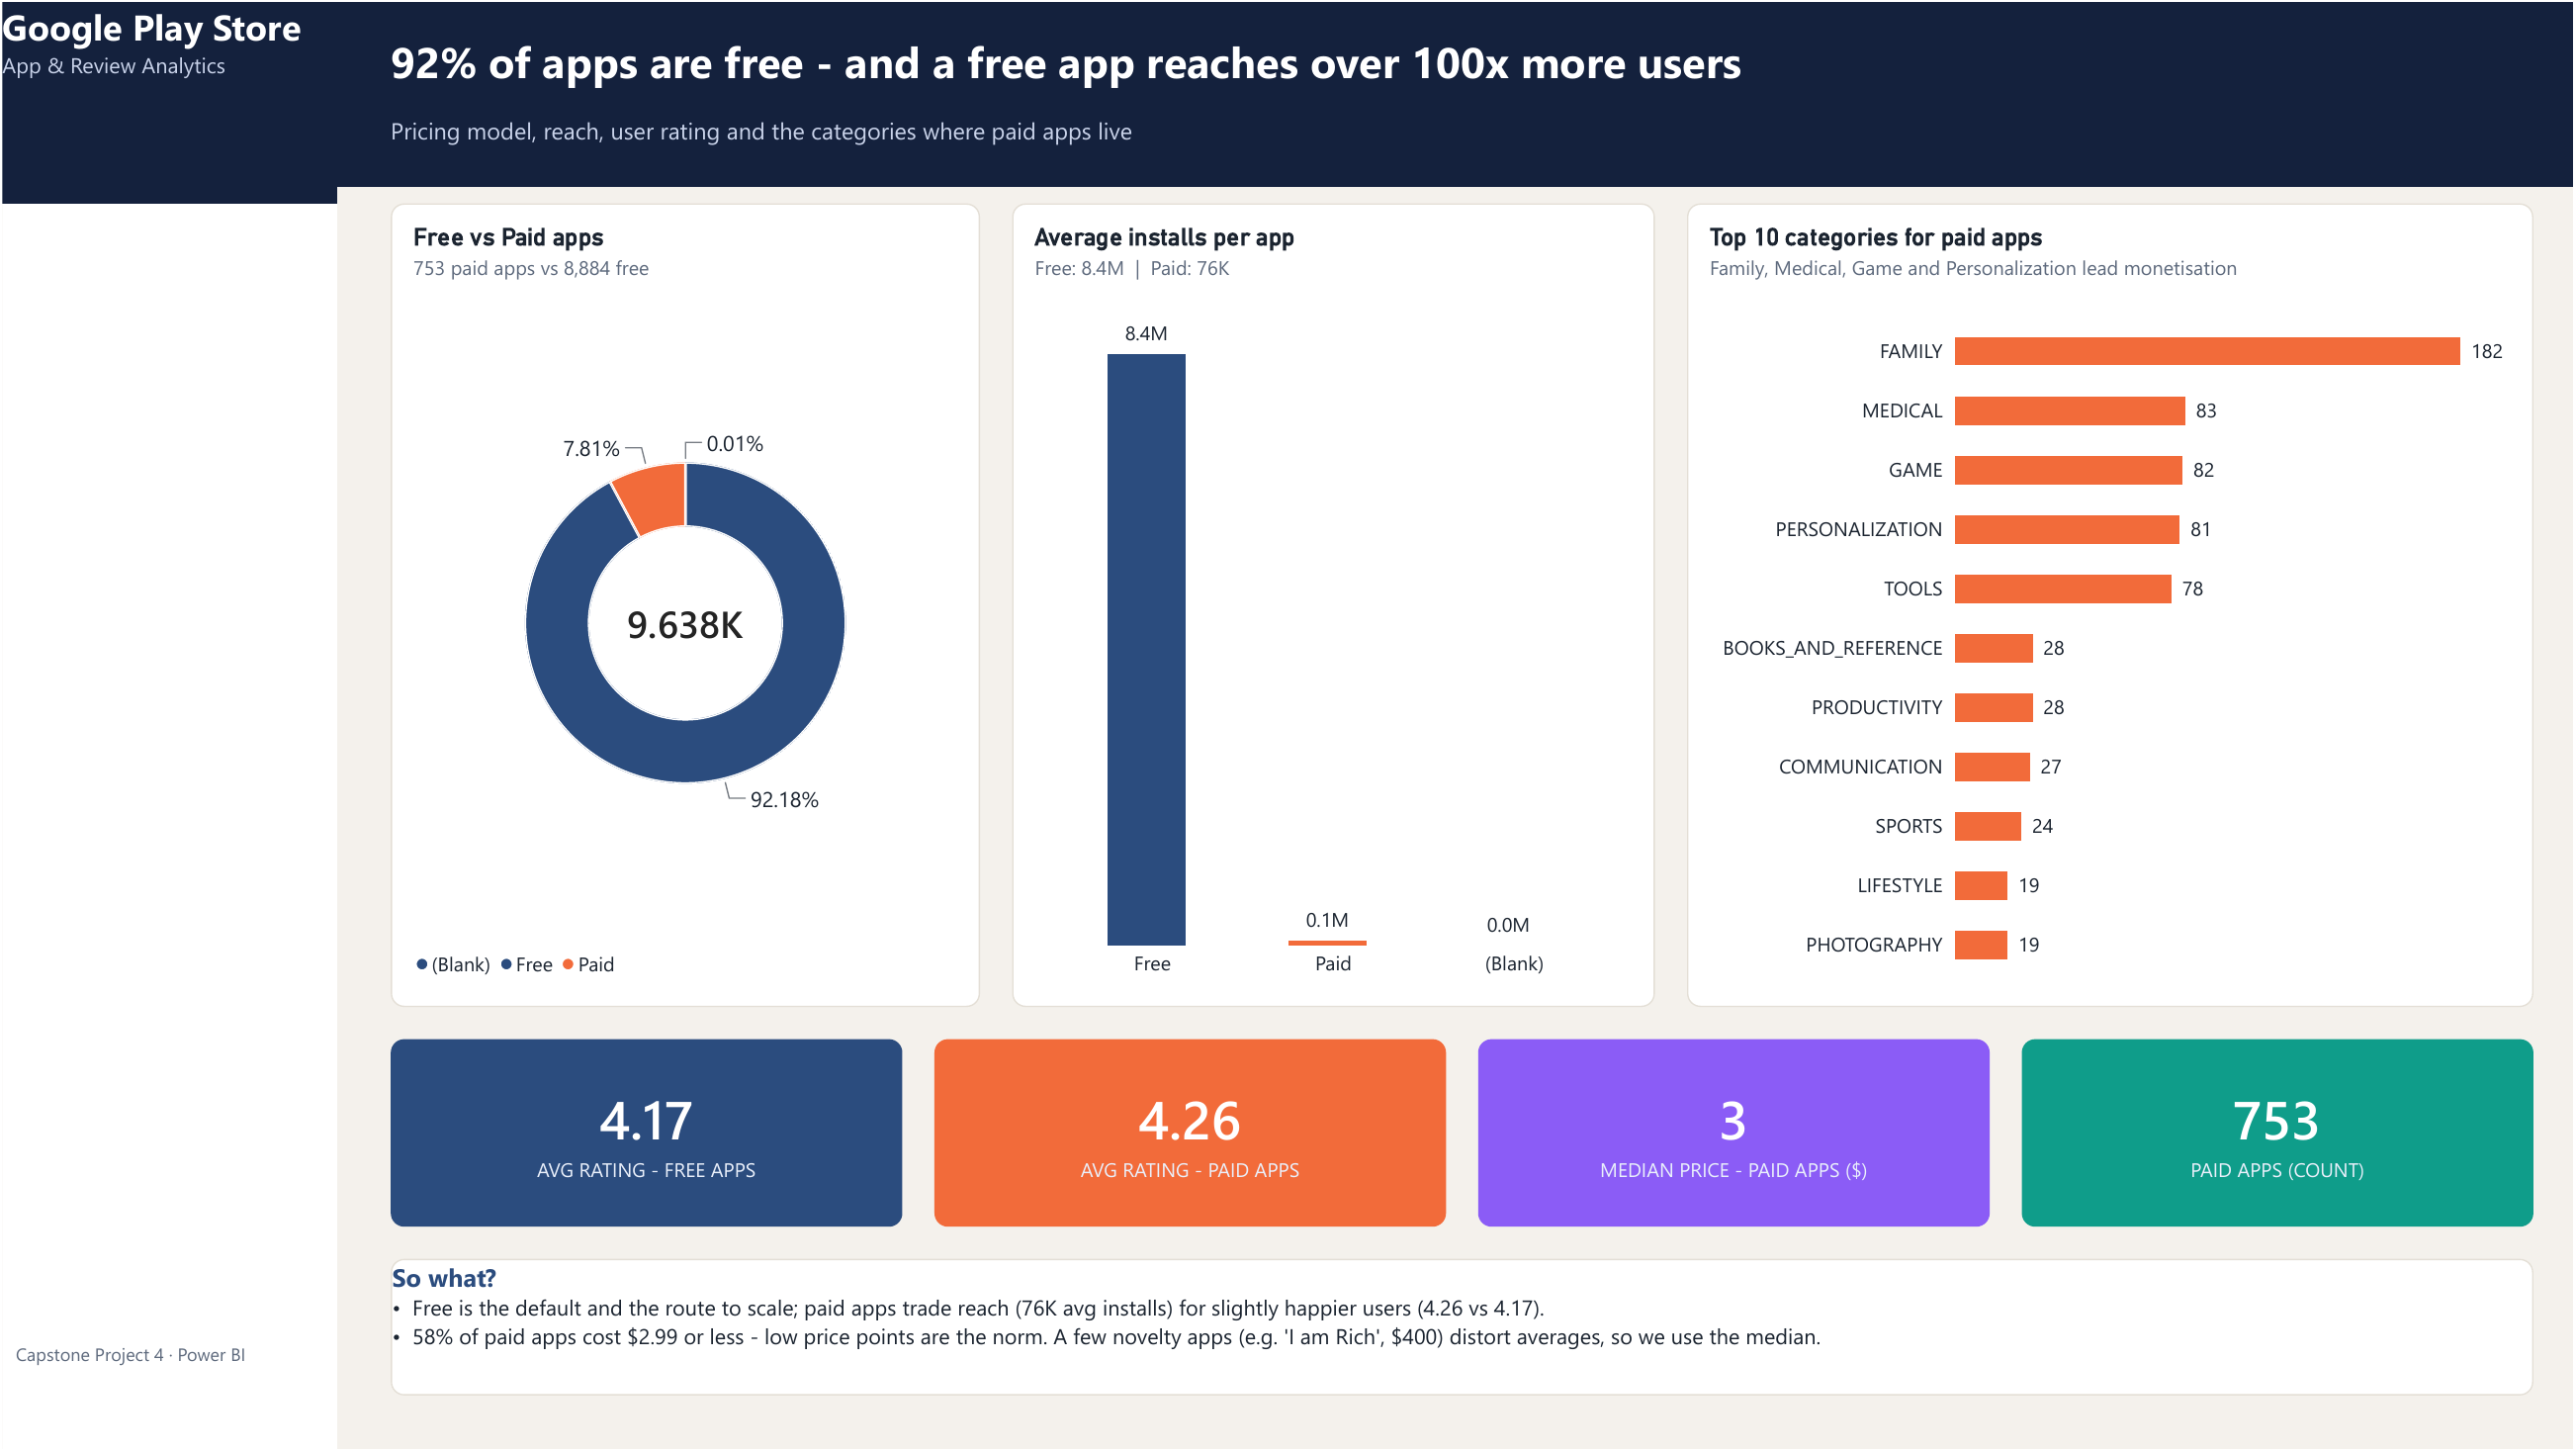

Layout of this report page (visuals, bound fields, positions):
{"tool":"powerbi","page":{"name":"Free vs Paid","canvas":[1920,1080],"ordinal":6},"visuals":[{"type":"textbox","box":[0,0,250,1080],"z":0},{"type":"textbox","box":[0,0,250,150],"z":1000},{"type":"pageNavigator","box":[10,170,230,800],"z":2000},{"type":"textbox","box":[10,1000,230,50],"z":3000},{"type":"textbox","box":[250,0,1670,138],"z":4000},{"type":"textbox","box":[290,22,1600,62],"z":5000},{"type":"textbox","box":[290,84,1600,40],"z":6000},{"type":"donutChart","title":"Free vs Paid apps","fields":{"Category":["Play_Store_Cleaned.Type"],"Y":["Count(Play_Store_Cleaned.App)"]},"box":[290,150,440,600],"z":7000},{"type":"clusteredColumnChart","title":"Average installs per app","fields":{"Category":["Play_Store_Cleaned.Type"],"Y":["Avg(Play_Store_Cleaned.Installs)"]},"box":[754,150,480,600],"z":8000},{"type":"clusteredBarChart","title":"Top 10 categories for paid apps","fields":{"Category":["Play_Store_Cleaned.Category"],"Y":["CountNonNull(Play_Store_Cleaned.App)"]},"box":[1258,150,632,600],"z":9000},{"type":"card","fields":{"Values":["Avg(Play_Store_Cleaned.Rating)"]},"box":[290,774,382,140],"z":10000},{"type":"card","fields":{"Values":["Avg(Play_Store_Cleaned.Rating)"]},"box":[696,774,382,140],"z":11000},{"type":"card","fields":{"Values":["Median(Play_Store_Cleaned.Price)"]},"box":[1102,774,382,140],"z":12000},{"type":"card","fields":{"Values":["CountNonNull(Play_Store_Cleaned.App)"]},"box":[1508,774,382,140],"z":13000},{"type":"textbox","box":[290,938,1600,102],"z":14000}]}

Visuals, with their boxes in screenshot pixels (x1, y1, x2, y2), scaled from the page's 1920x1080 canvas onto the 2576x1452 screenshot:
textbox: 0,0,335,1451
textbox: 0,0,335,202
pageNavigator: 14,228,322,1304
textbox: 14,1344,322,1411
textbox: 335,0,2575,186
textbox: 389,30,2535,113
textbox: 389,113,2535,167
"Free vs Paid apps" donutChart: 389,202,979,1008
"Average installs per app" clusteredColumnChart: 1012,202,1655,1008
"Top 10 categories for paid apps" clusteredBarChart: 1688,202,2535,1008
card - Avg(Play_Store_Cleaned.Rating): 389,1041,902,1228
card - Avg(Play_Store_Cleaned.Rating): 933,1041,1447,1228
card - Median(Play_Store_Cleaned.Price): 1478,1041,1991,1228
card - CountNonNull(Play_Store_Cleaned.App): 2023,1041,2535,1228
textbox: 389,1261,2535,1399
